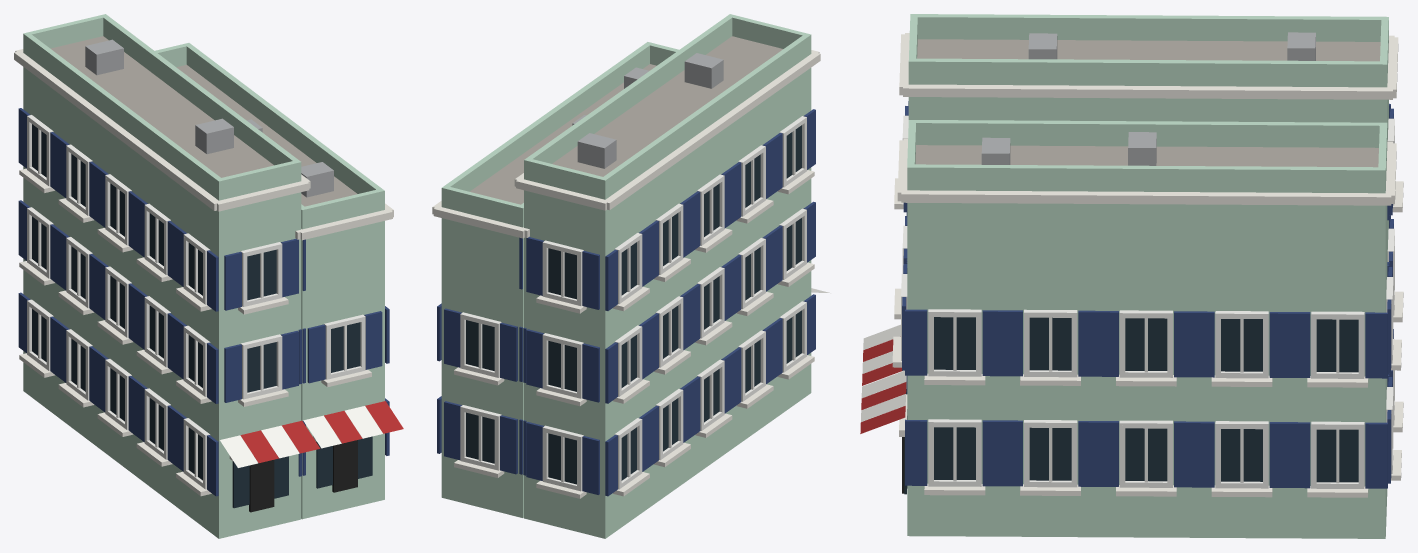
3 renders of one model, left to right at view 1: azimuth 30°, elevation 25°; view 2: azimuth 150°, elevation 25°; view 3: azimuth 270°, elevation 25°, orthographic. The views are drawn at different scales.
Parts seen in each view (by area): view 1: b8023; view 2: b8023; view 3: b8023.
Part boxes in pixels (box(x1,y1,x2,y2)): b8023: box(14, 14, 403, 538); b8023: box(432, 14, 830, 538); b8023: box(860, 14, 1403, 538).
Bounding box in the file's own units: 2813 × 5062 × 5810.
